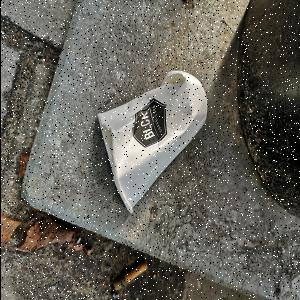Cup: (95, 66, 211, 218)
